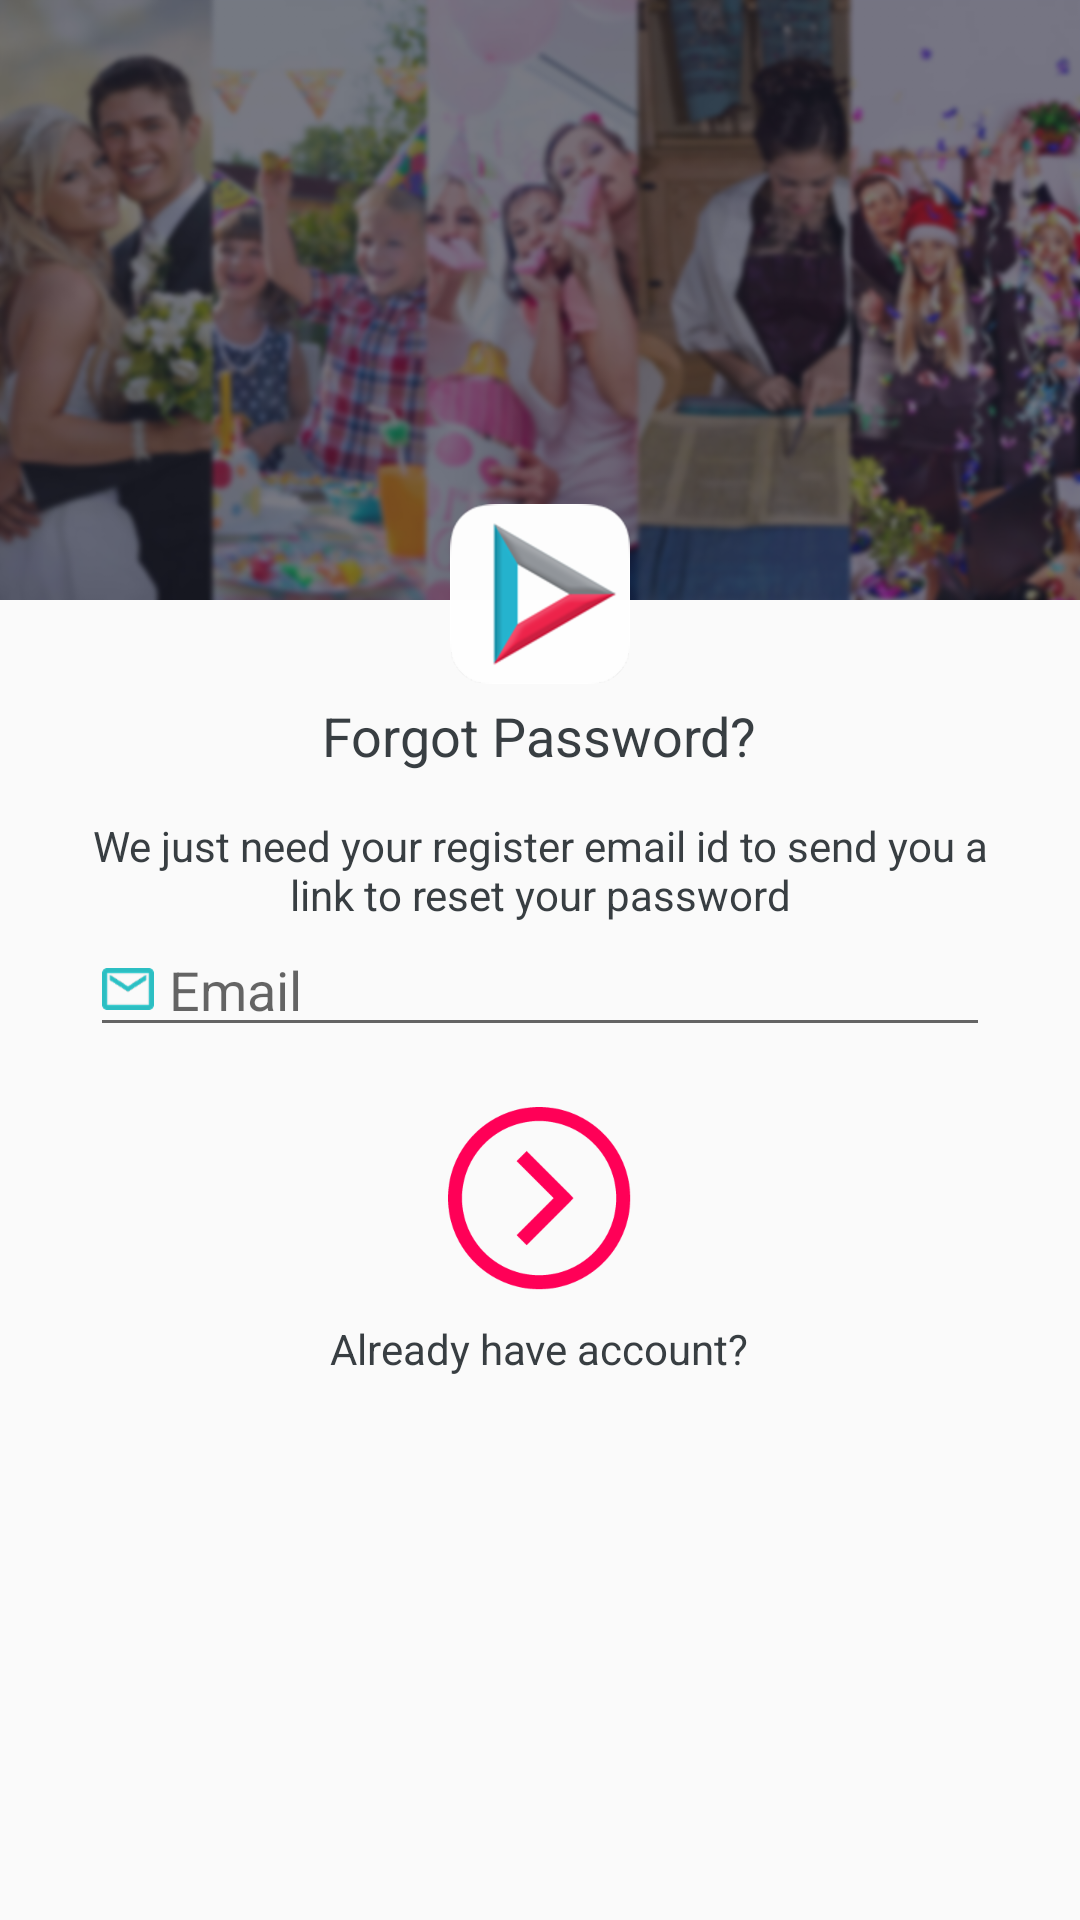

Where to tap for icons on this 1080 × 1920 app screen, as [x,y]:
right: [539,1198]
